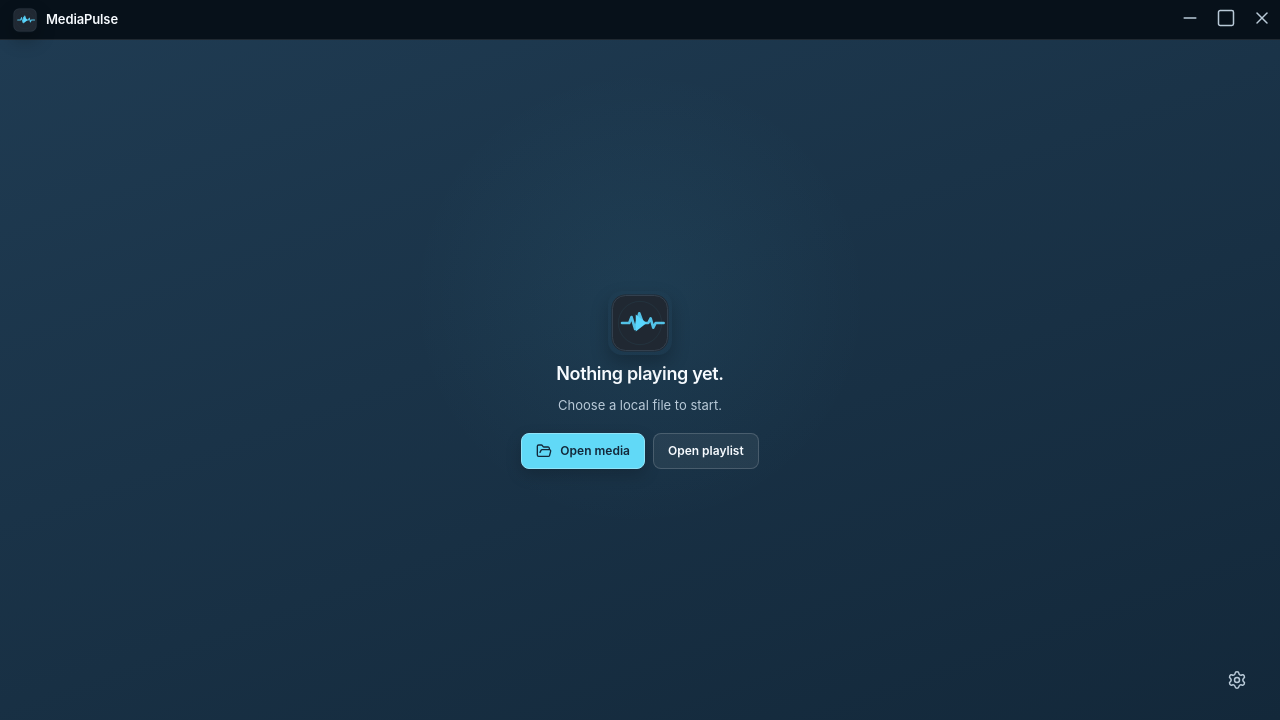
it: MediaPulse player › opens selected media and exposes it in the playlist
The image size is (1280, 720).
Click the button "Open media" at (583, 451), box [521,433,645,469]
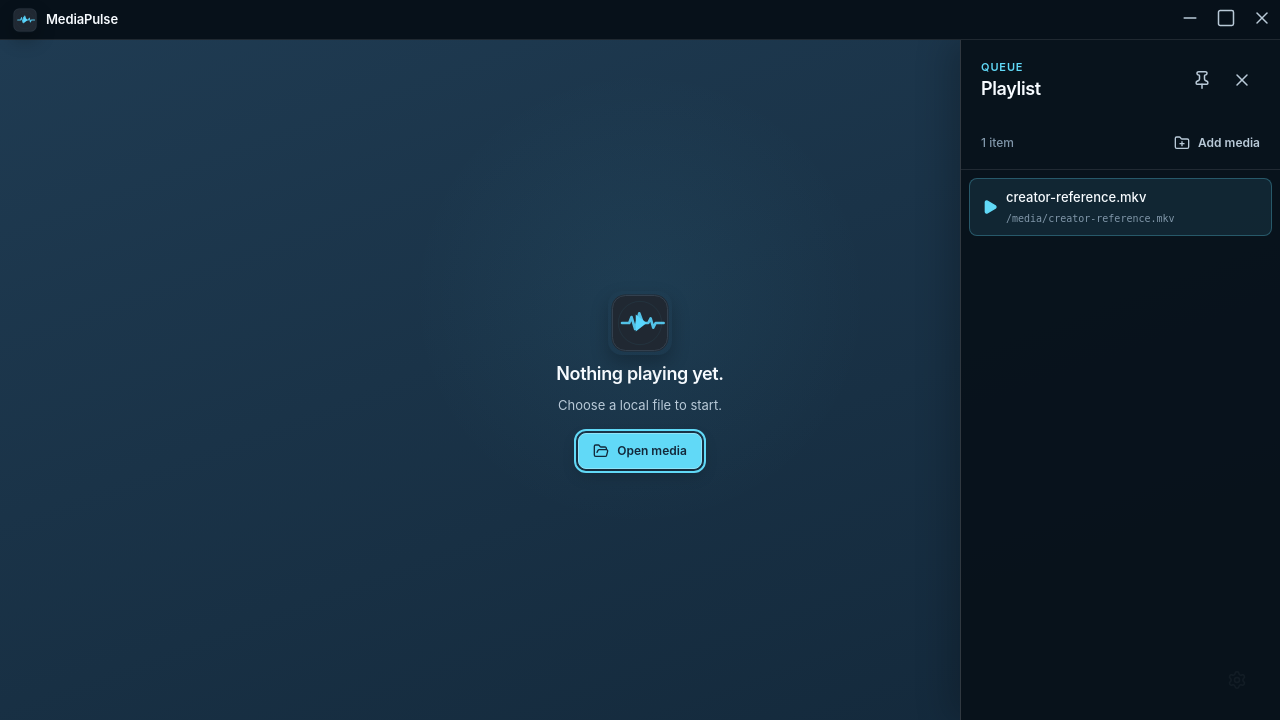
Now the button with aria-label "creator-reference.mkv, playing" is shown, box [970,179,1235,235]
